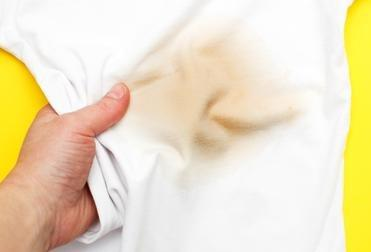gun: (124, 40, 286, 156)
